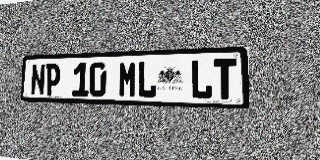0: (89, 62, 106, 97)
1: (72, 62, 89, 97)
L: (190, 59, 212, 99), (137, 61, 157, 98)
M: (118, 61, 137, 98)
N: (30, 64, 46, 96)
P: (45, 63, 61, 96)
T: (213, 58, 237, 100)
